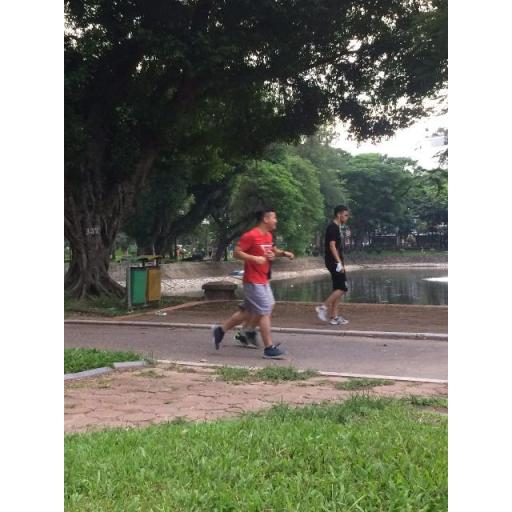Running: (200, 207, 291, 364)
